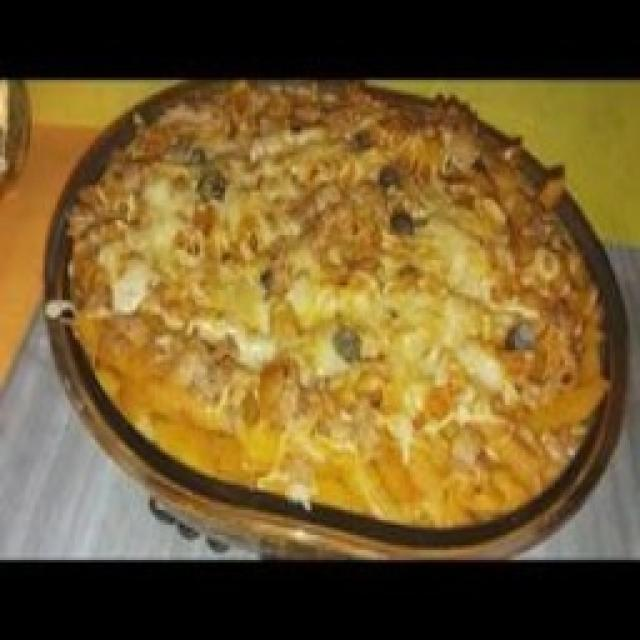Couscous: (70, 84, 606, 526)
